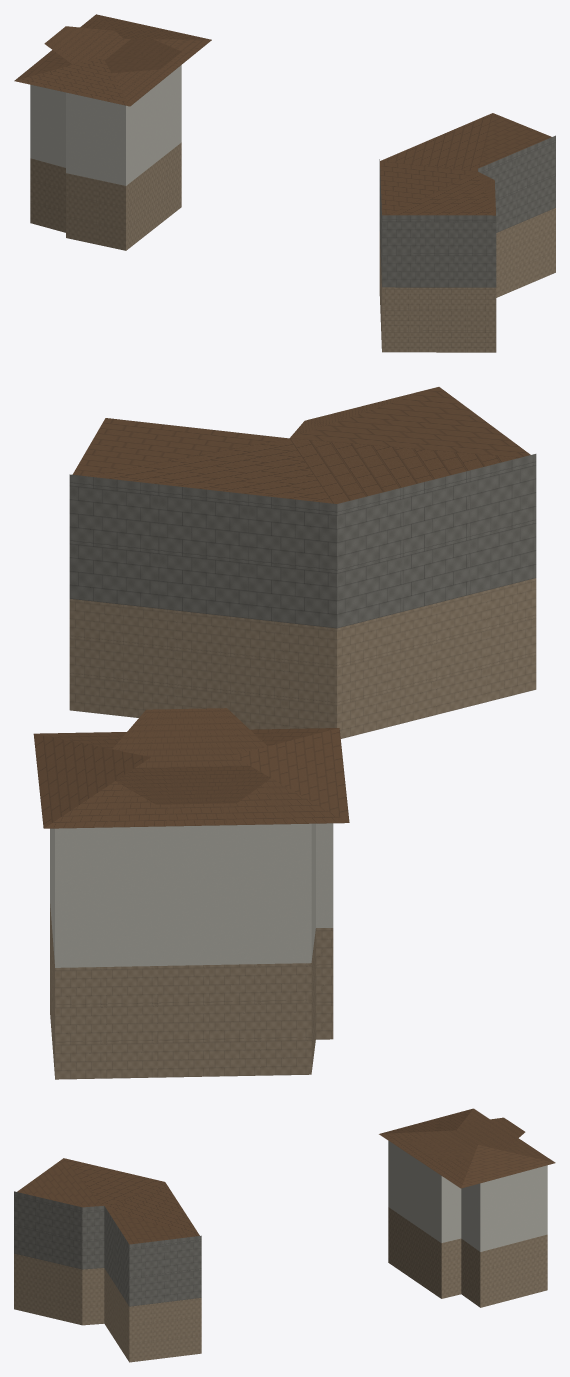
Rendered from bld_c37_46_204.gltf.
3 views of the same model, one above another, from view 1: azimuth 30°, elevation 25°; view 2: azimuth 150°, elevation 25°; view 3: azimuth 270°, elevation 25° (orthographic). The views are drawn at different scales.
Visible parts, largest first — view 1: bld_c37_46_204; view 2: bld_c37_46_204; view 3: bld_c37_46_204.
Part boxes in pixels (box(x1,y1,x2,y2)): bld_c37_46_204: box(14, 14, 555, 352); bld_c37_46_204: box(33, 387, 536, 1079); bld_c37_46_204: box(14, 1108, 555, 1362).
Bounding box in the file's own units: 28.12 × 12.7 × 44.88.
5 materials, 5 textured.
